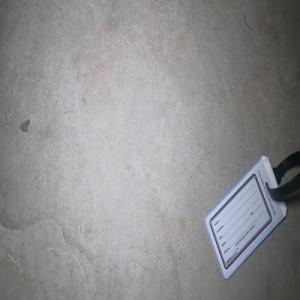LuggageTag: (203, 148, 300, 281)
